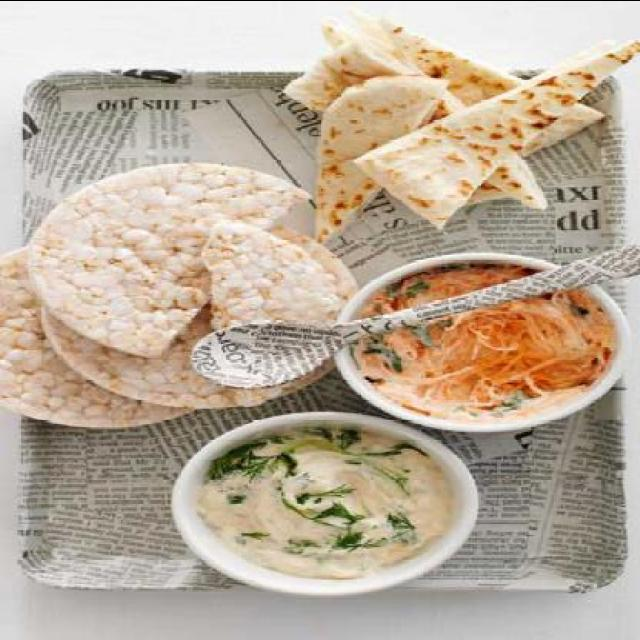Gallette di riso packaged: (26, 143, 297, 351)
